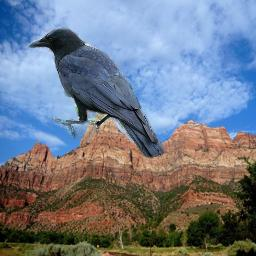Crow: (27, 27, 166, 162)
